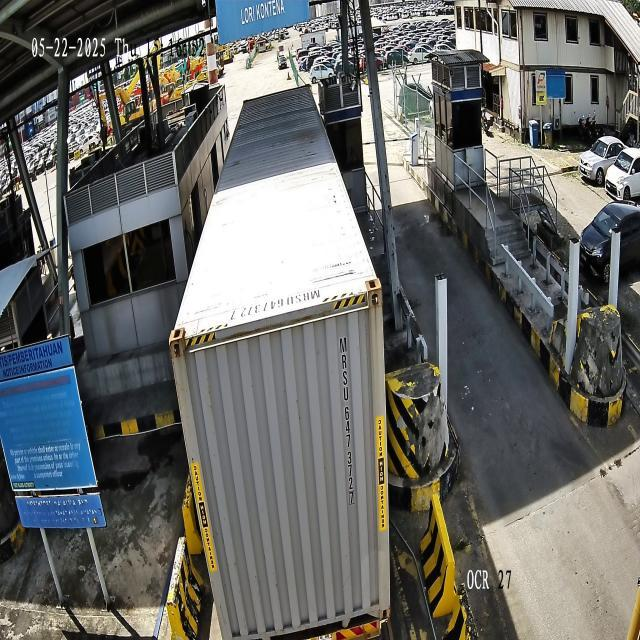container_number: (336, 334, 358, 509)
